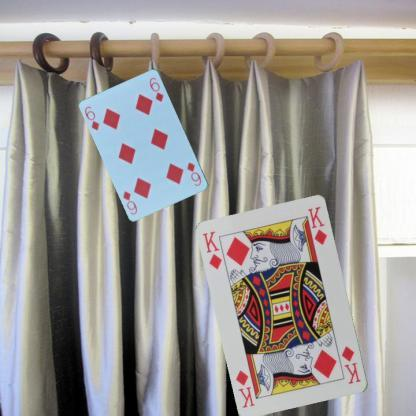6d: (82, 103, 102, 132), (184, 160, 203, 188)
Kd: (200, 228, 223, 271), (339, 344, 362, 386)
